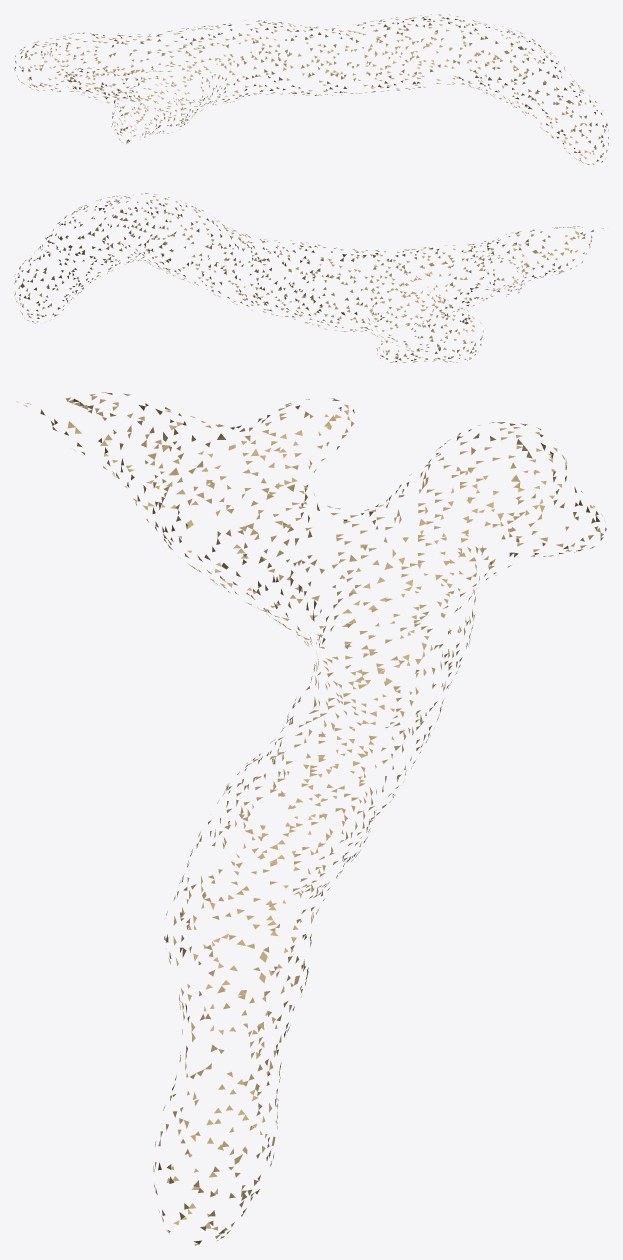
The model's file is morph_007.glb.
The picture shows the model from 3 angles, top to bottom: view 1: azimuth 30°, elevation 25°; view 2: azimuth 150°, elevation 25°; view 3: azimuth 270°, elevation 25°; orthographic projection. The views are drawn at different scales.
Size of the model in its own units: 107 by 38.08 by 53.52.
